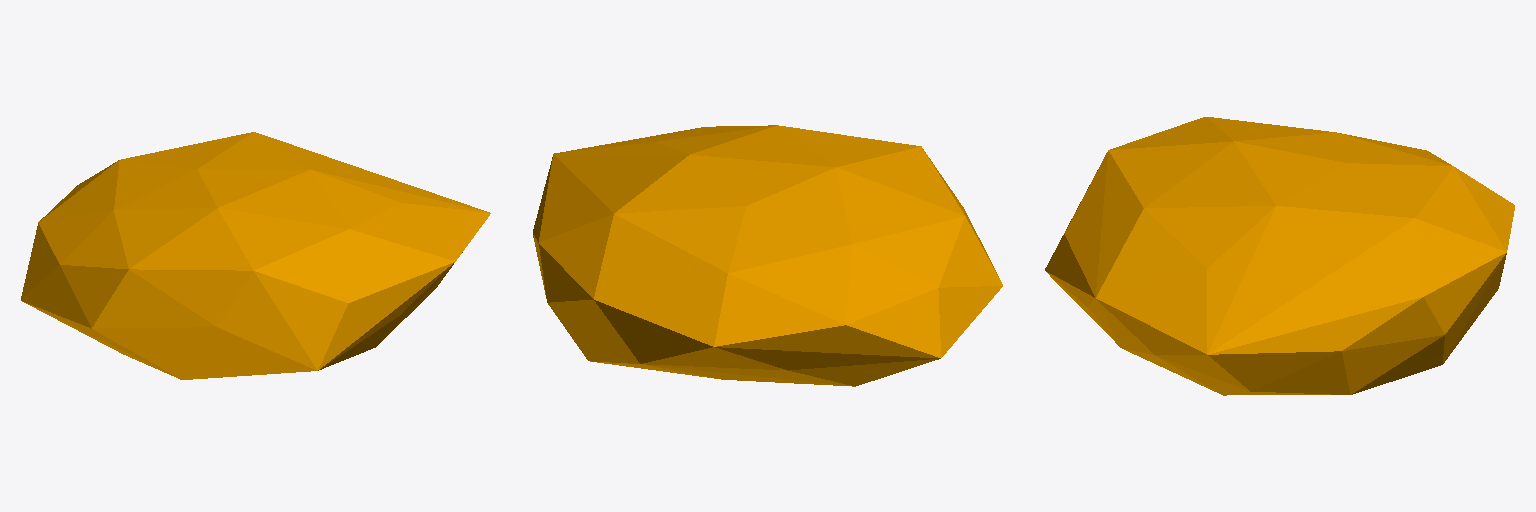
The robot description file, URDF, robot "ic3112":
<?xml version="1.0"?>
<robot name="ic3112">
  <link name="link">
    <contact>
      <lateral_friction value="0.6"/>
    </contact>
    <inertial>
      <mass value = "0.20403479269652733"/>
      <inertia ixx="6.227386478772176e-05" ixy="-1.2620901204837416e-20" ixz="2.0600731530358843e-20" iyy="7.18577815052646e-05" iyz="-3.5822350619608914e-20" izz="0.0001142058439778601" />
    </inertial>
    <visual name="visual">
      <geometry>
        <mesh filename="ic3112.obj"/>
      </geometry>
    </visual>
    <collision name="collision">
      <geometry>
        <mesh filename="ic3112.obj"/>
      </geometry>
    </collision>
  </link>
</robot>

--- What the picture shows (computed from the rendered views, not written in the file) ---
Views: 3 orthographic renders of the robot side by side, from view 1: azimuth 30°, elevation 25°; view 2: azimuth 150°, elevation 25°; view 3: azimuth 270°, elevation 25°.
Robot: ic3112 — 1 links, 0 joints (none); root link link; default pose: all joints at 0.
Links seen in each view (by area): view 1: link; view 2: link; view 3: link.
Link boxes in pixels (left/top/right/bottom): link: left=21, top=132, right=490, bottom=379; link: left=533, top=125, right=1002, bottom=386; link: left=1045, top=117, right=1514, bottom=395.
Size in the robot's own frame: 0.0849 by 0.0751 by 0.0333 metres.
1 mesh visuals loaded from 1 distinct referenced files (1 OBJ).
